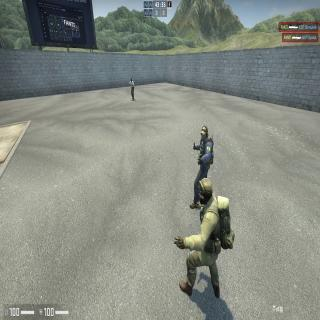CT-Body: (197, 179, 220, 268), (200, 127, 210, 179), (130, 79, 134, 99)
CT-Head: (198, 178, 212, 202), (200, 125, 208, 139), (131, 78, 132, 82)
